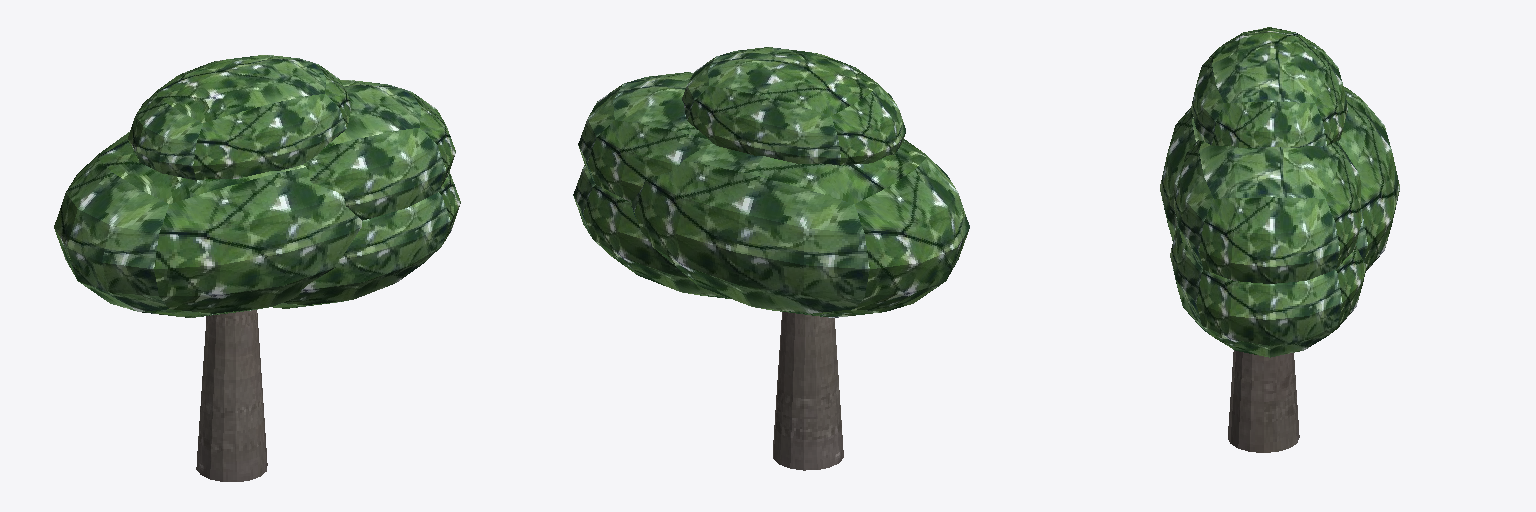
3 views of the same model, side by side, from view 1: azimuth 30°, elevation 25°; view 2: azimuth 150°, elevation 25°; view 3: azimuth 270°, elevation 25° (orthographic).
Parts seen in each view (by area): view 1: ???_4, ???, ???_1, ???.2, ???_3; view 2: ???_4, ???, ???_1, ???.2, ???_3; view 3: ???_1, ???, ???_3, ???_4, ???.2.
Boxes of the visible parts, <box> form: ???_4: <box>54,132,361,317</box>; ???: <box>128,55,351,180</box>; ???_1: <box>303,80,455,220</box>; ???.2: <box>196,310,267,481</box>; ???_3: <box>273,172,460,308</box>; ???_4: <box>631,139,969,317</box>; ???: <box>682,47,905,165</box>; ???_1: <box>578,72,712,201</box>; ???.2: <box>773,312,843,470</box>; ???_3: <box>573,165,729,298</box>; ???_1: <box>1173,140,1361,283</box>; ???: <box>1191,27,1347,147</box>; ???_3: <box>1170,224,1366,357</box>; ???_4: <box>1160,87,1399,270</box>; ???.2: <box>1228,350,1299,452</box>.
Bounding box in the file's own units: 131 × 131 × 72.49.
2 materials, 2 textured.